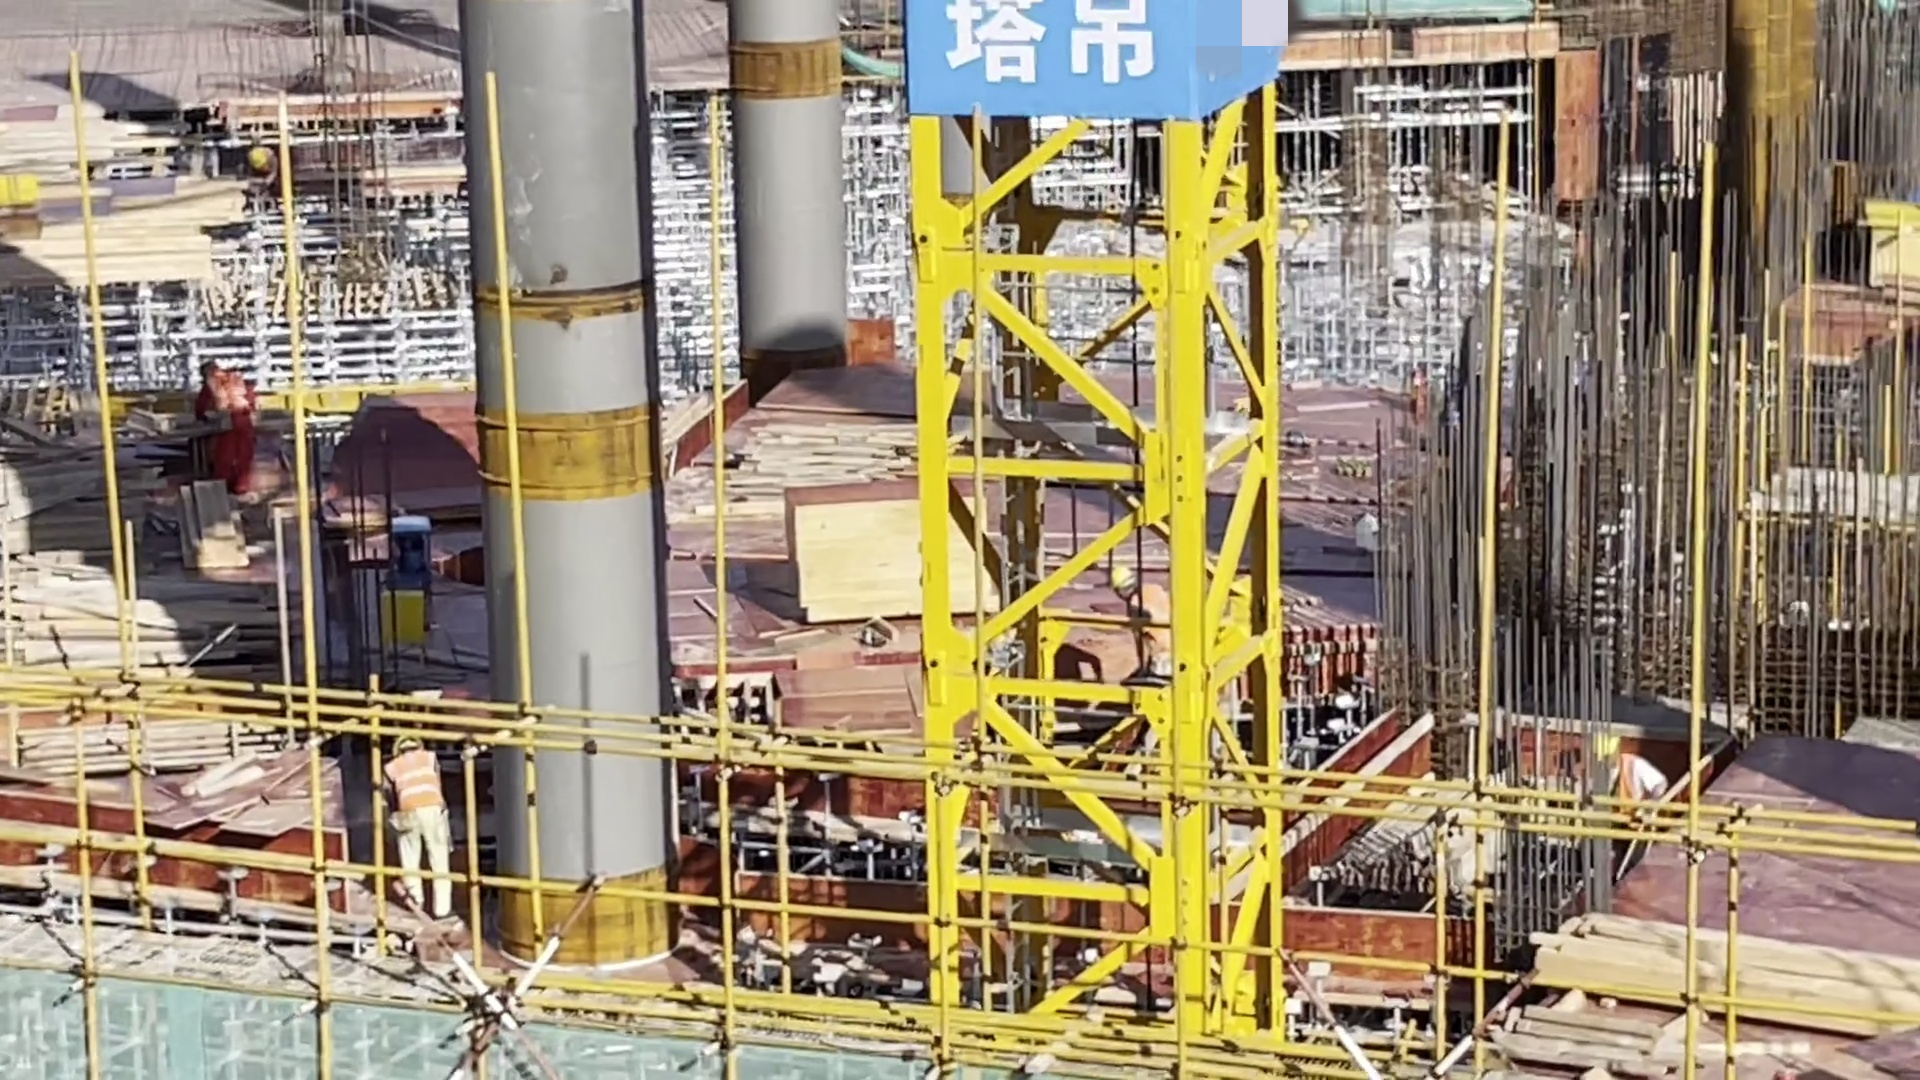helmet: (1586, 729, 1628, 762), (368, 732, 424, 752), (1114, 561, 1139, 602), (243, 147, 273, 172), (203, 349, 224, 376)
person: (366, 711, 456, 946), (1113, 560, 1201, 703), (194, 366, 271, 508), (1588, 721, 1659, 855), (246, 138, 291, 198)
vest: (1123, 577, 1186, 681), (389, 746, 454, 817), (204, 372, 261, 432), (1601, 757, 1669, 806)
